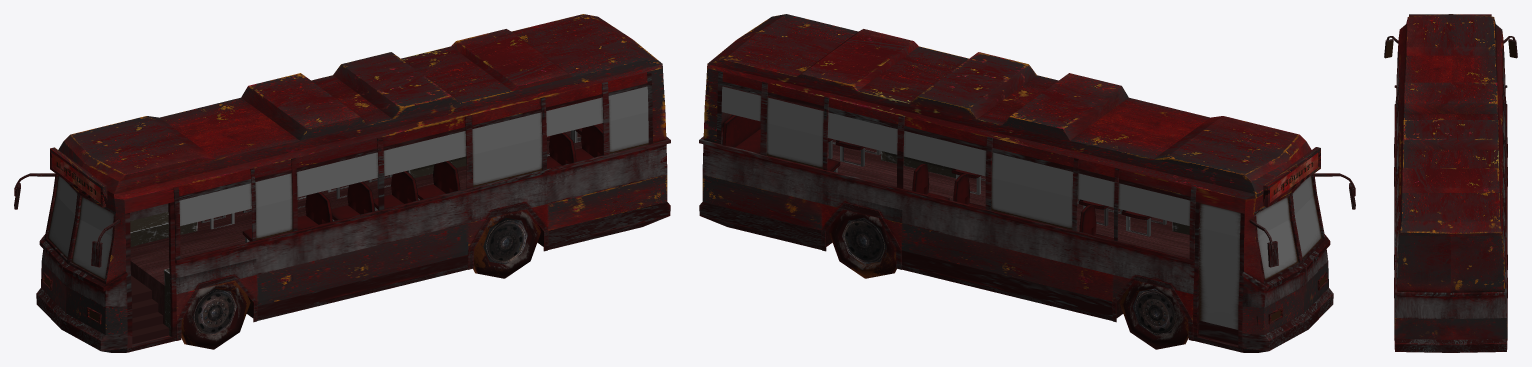
Rendered from Bus3.fbx.
3 renders of one model, left to right at view 1: azimuth 30°, elevation 25°; view 2: azimuth 150°, elevation 25°; view 3: azimuth 270°, elevation 25°, orthographic. The views are drawn at different scales.
Parts seen in each view (by area): view 1: Cube.003, Cube.030, Cube.006, Cube.007, Cube.060; view 2: Cube.003, Cube.006, Cube.030, Cube.060, Cube.007; view 3: Cube.003, Cube.060.
Part boxes in pixels (x1,y1,x2,y2): Cube.003: (14,14,670,352); Cube.030: (201,123,603,242); Cube.006: (130,131,581,324); Cube.007: (130,156,466,335); Cube.060: (50,147,107,207); Cube.003: (699,14,1355,352); Cube.006: (827,139,1189,258); Cube.030: (722,115,1166,239); Cube.060: (1263,147,1320,207); Cube.007: (881,151,1189,234); Cube.003: (1384,14,1517,352); Cube.060: (1409,14,1491,16).
Bounding box in the file's own units: 1488 × 475 × 375.
